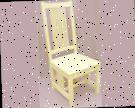Silla: (41, 2, 101, 107)
